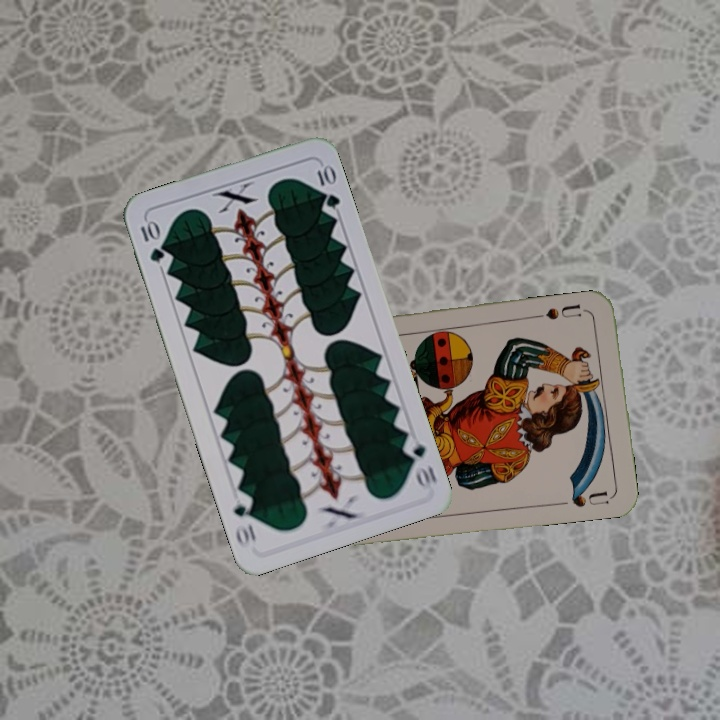G10: (399, 432, 439, 490), (136, 216, 167, 265)
SU: (532, 300, 591, 322)
